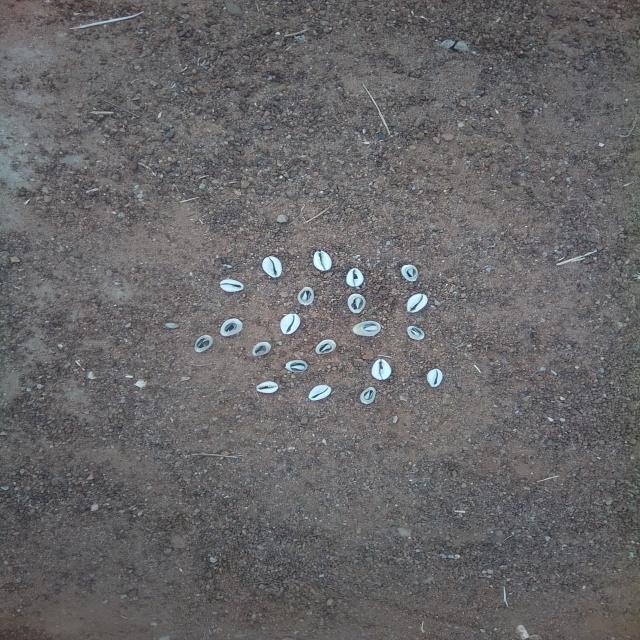facedown: (352, 319, 382, 338), (218, 318, 245, 337), (192, 334, 214, 354), (347, 292, 367, 314), (314, 338, 338, 355), (284, 358, 309, 374), (400, 263, 420, 283), (358, 386, 378, 405), (252, 341, 272, 357), (406, 325, 426, 341)
faceup: (278, 312, 301, 336), (405, 291, 429, 314), (262, 254, 282, 280), (370, 358, 392, 381), (312, 249, 333, 272), (218, 278, 246, 294), (308, 384, 332, 402), (297, 284, 316, 306), (425, 367, 444, 389), (254, 380, 280, 395), (345, 268, 365, 287)
